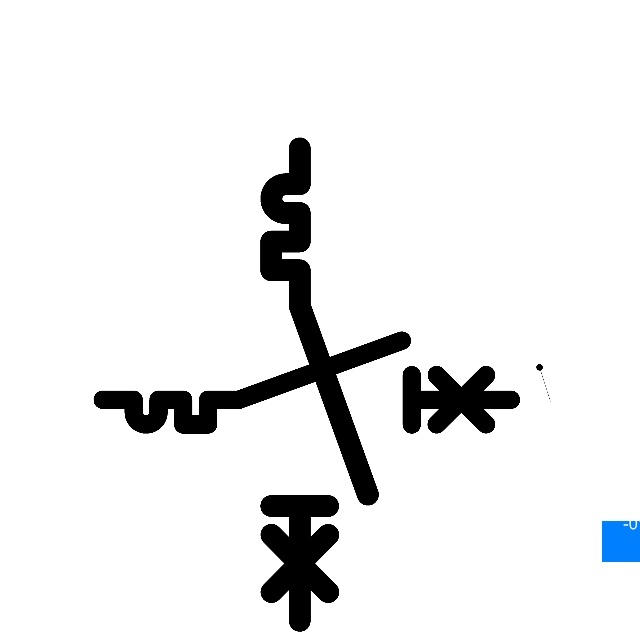interruptor_termomagnetico: (259, 136, 380, 632), (92, 330, 521, 435)
